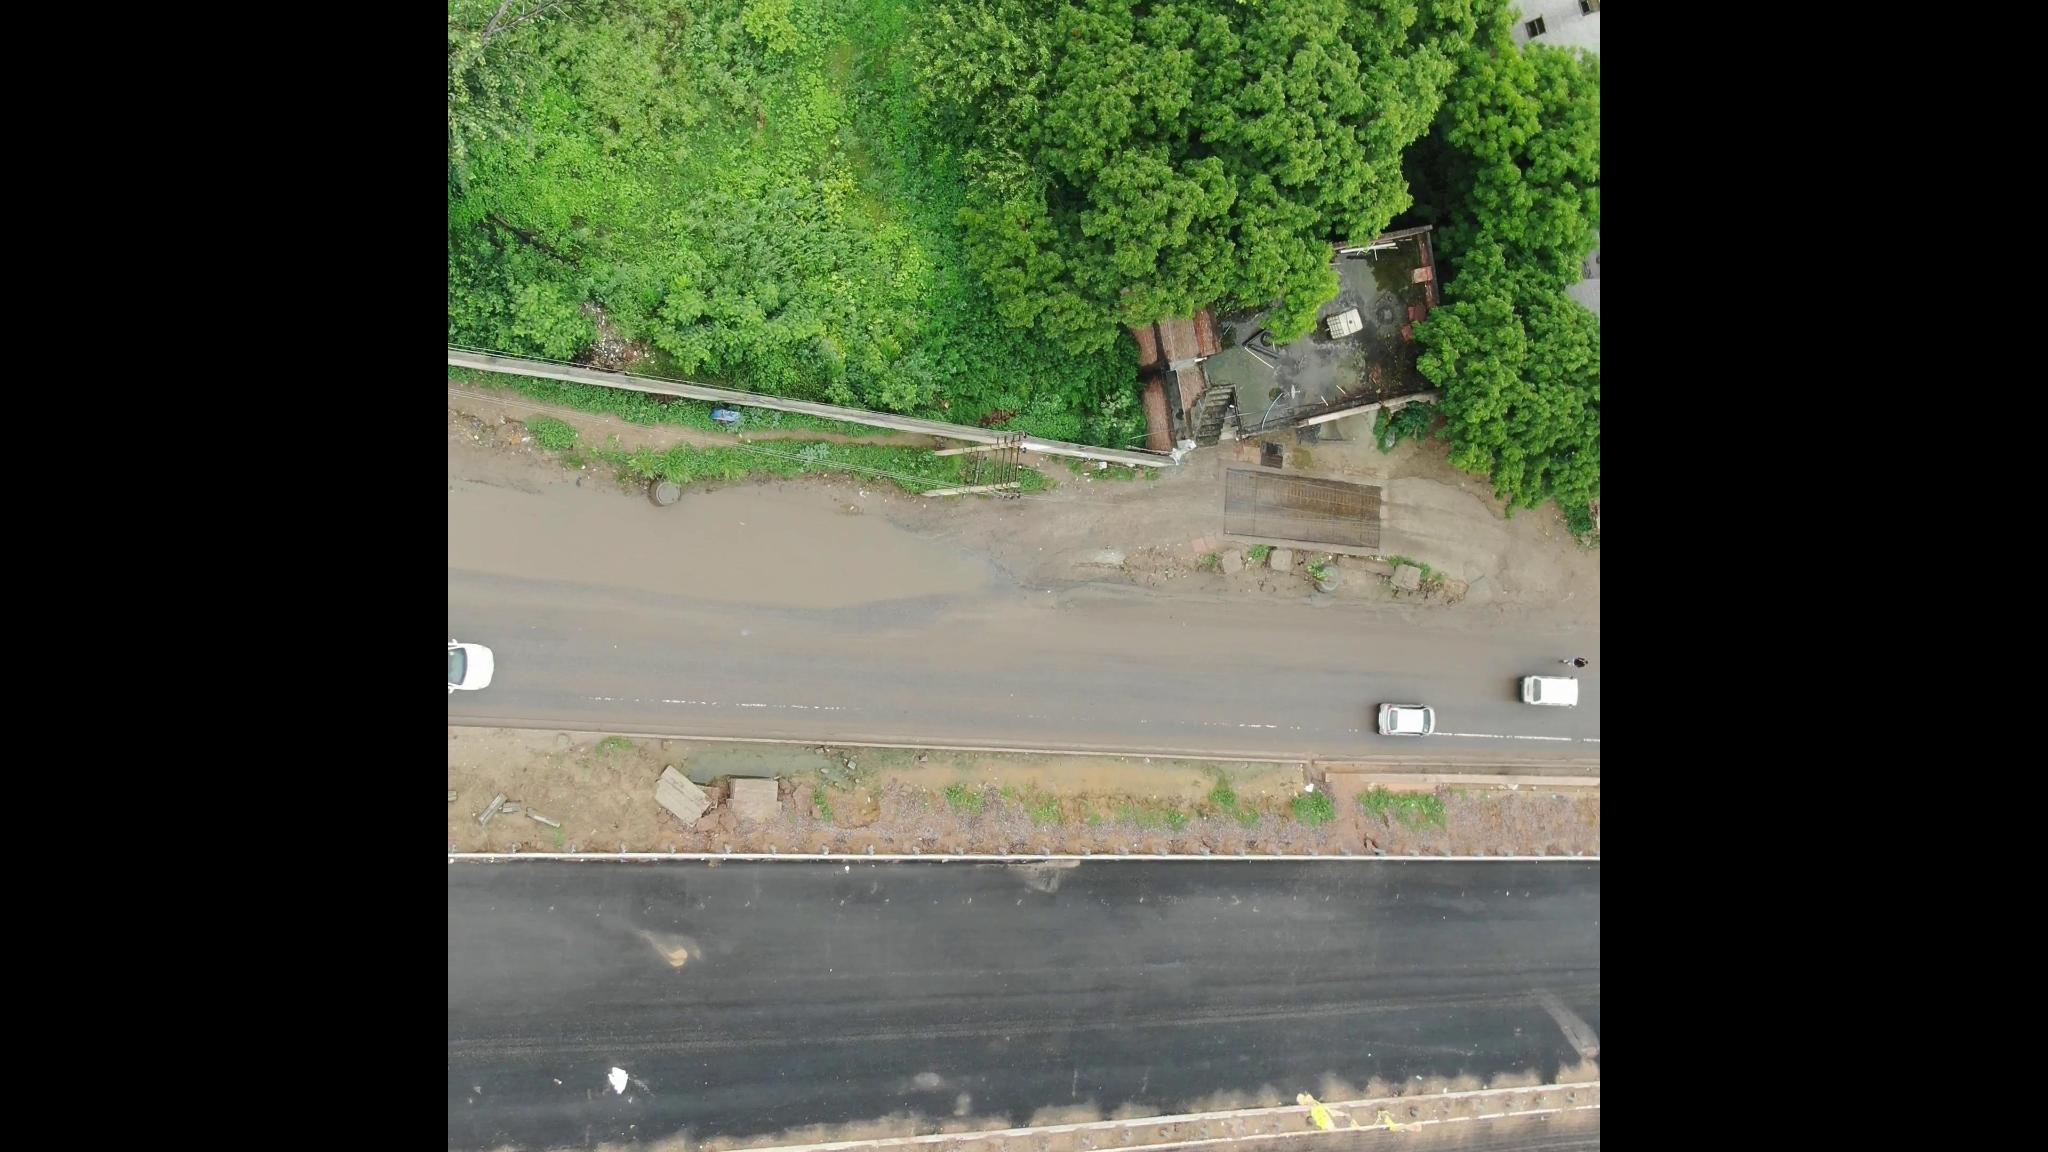Waterlogging: (471, 447, 1010, 633)
